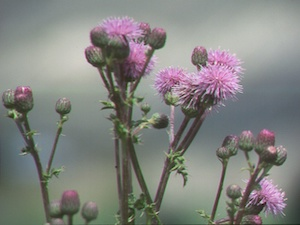thistle: (199, 63, 240, 117), (246, 178, 289, 220), (104, 14, 135, 64), (176, 74, 204, 118), (11, 85, 36, 117)
